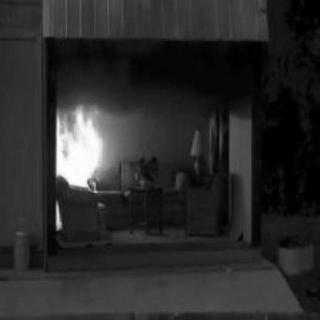Fire: (53, 105, 115, 188)
